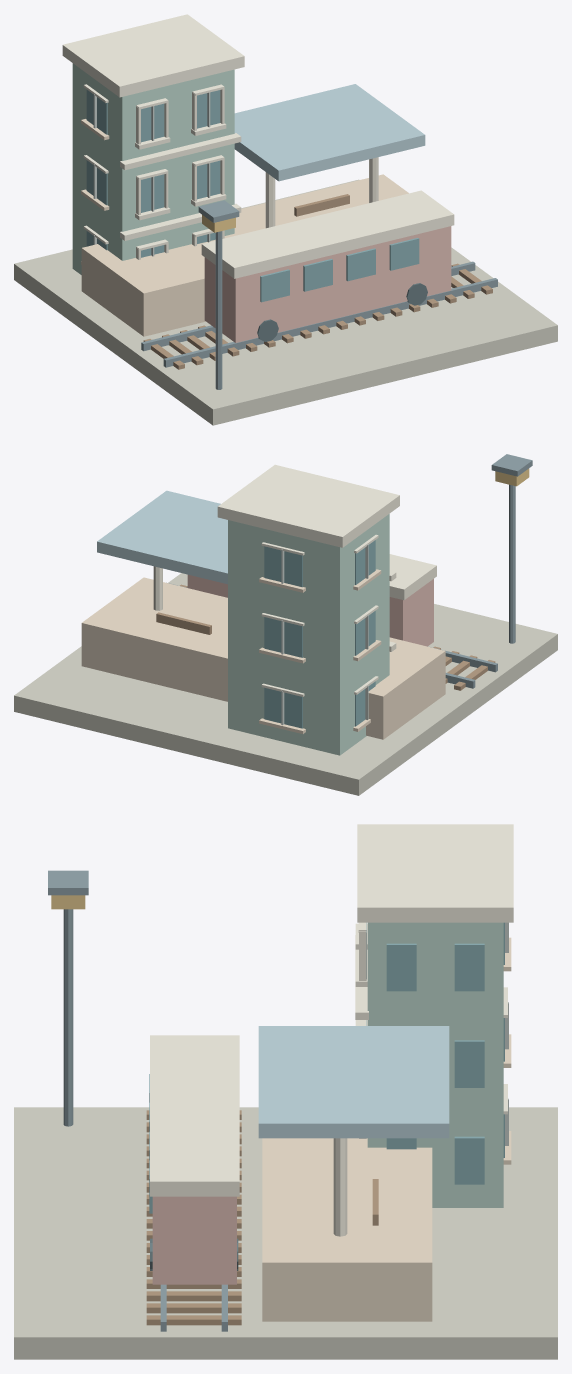
Rendered from dot-tpl-station-2.glb.
The picture shows the model from 3 angles, top to bottom: view 1: azimuth 30°, elevation 25°; view 2: azimuth 150°, elevation 25°; view 3: azimuth 270°, elevation 25°; orthographic projection. The views are drawn at different scales.
Visible parts, largest first — view 1: paving; view 2: paving; view 3: paving.
Boxes of the visible parts, box(x1,y1,x2,y2) form: paving: box(14, 14, 557, 425); paving: box(14, 454, 557, 795); paving: box(14, 824, 557, 1359).
Bounding box in the file's own units: 4 × 2.65 × 4.
Materials: 1 (1 with a texture image).
